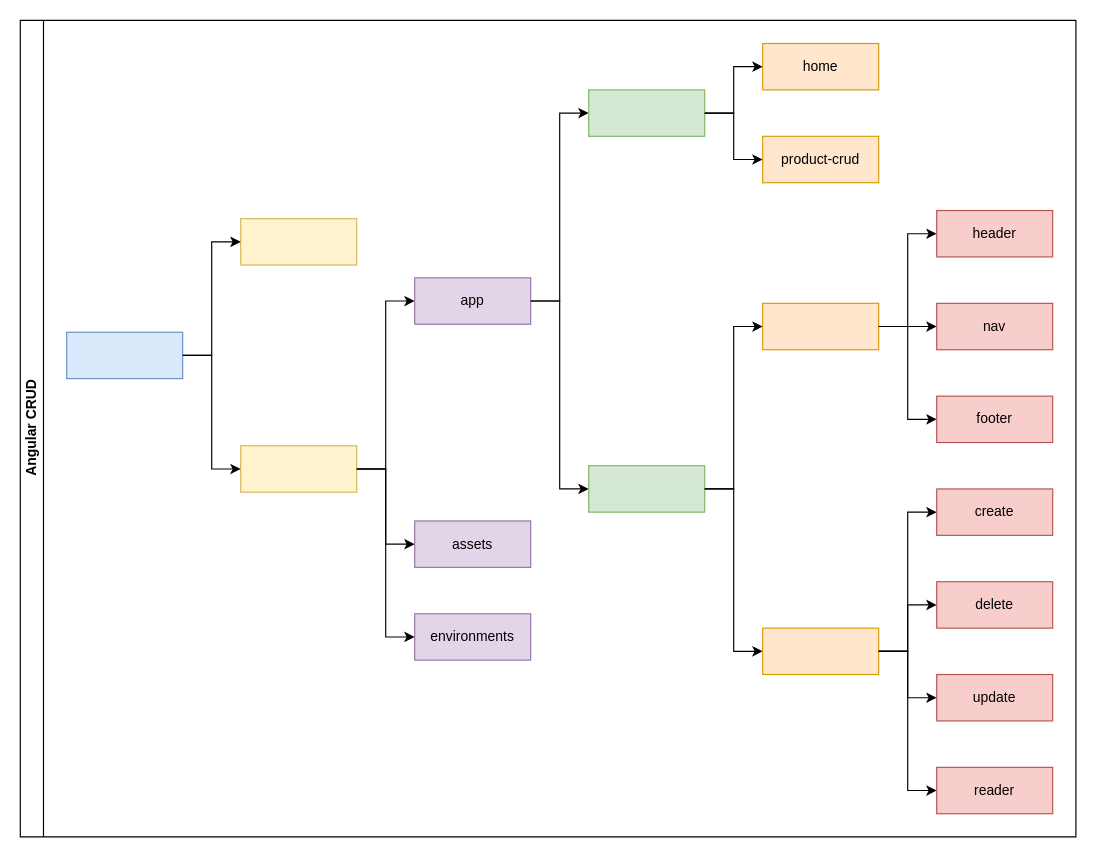
This 1096x857 diagram has some shape labels left out. The shapes that lost their labels are listed below. From the top down, each one's centre as x and y in pixels, then its label:
(646,112): views
(298,241): node_modules
(820,326): template
(124,355): Frontend
(298,468): src
(646,488): components
(820,651): procuct
